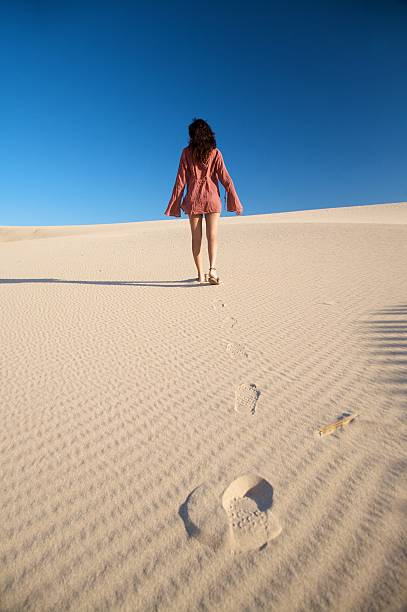human_footprint: (222, 474, 281, 551), (234, 383, 259, 414)
